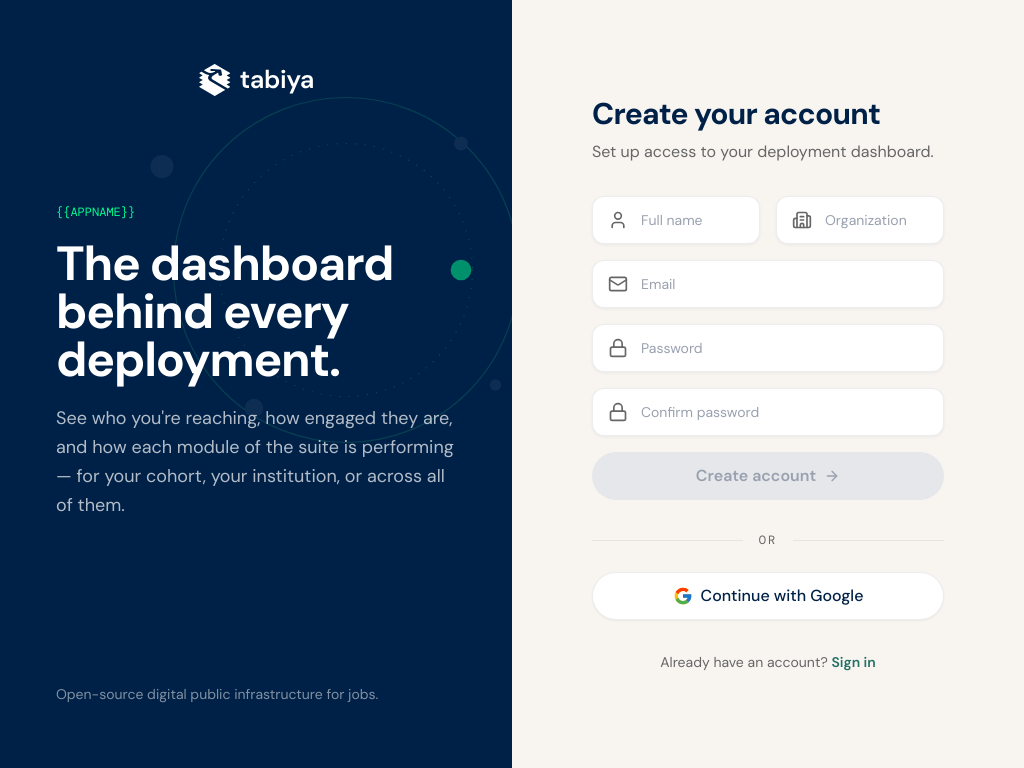
Test: Register › Live validation › should show the password requirements as the user types and keep submit disabled
This screenshot has width=1024, height=768.
In the password field labelled "Password": (768, 348) [592, 324, 944, 372], type "a"
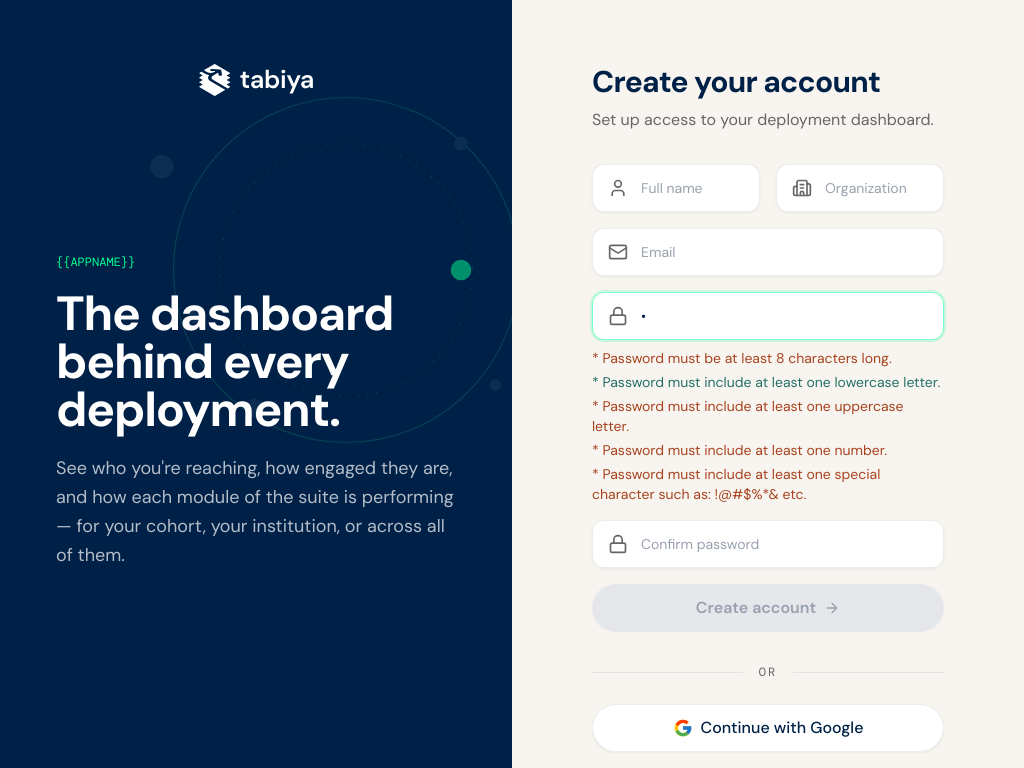
Check: the list item "* Password must be at least 8 characters long." is shown, box [592, 348, 944, 368]
Check: the list item "* Password must include at least one uppercase letter." is shown, box [592, 396, 944, 436]
